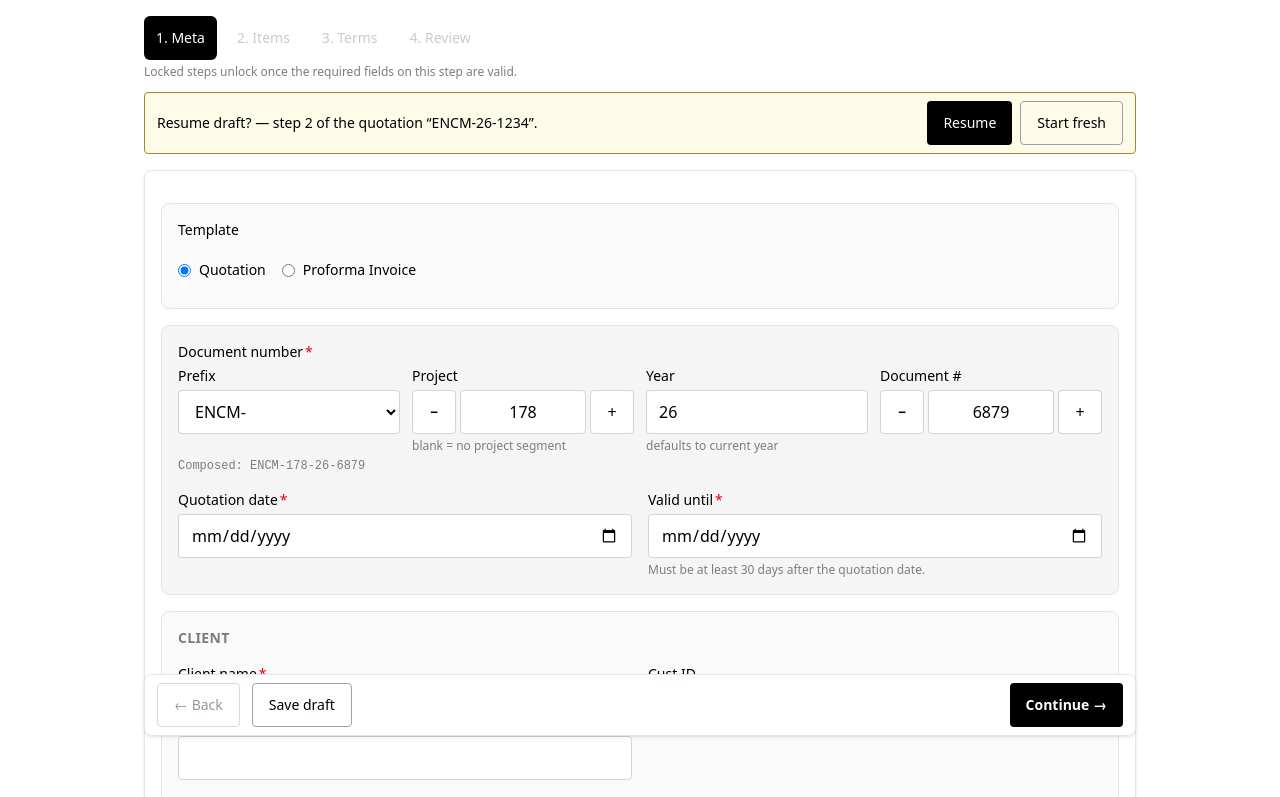
Test case: Wizard resume banner (AC-12 / EC-11) › offers Resume/Start fresh for a readable draft and dismisses on Resume
Expected: the text "Resume draft? — step 2 of the quotation “ENCM-26-1234”." is shown, [157,113,538,133]
Click the button "Resume".
click(970, 123)  # box [927,101,1012,145]
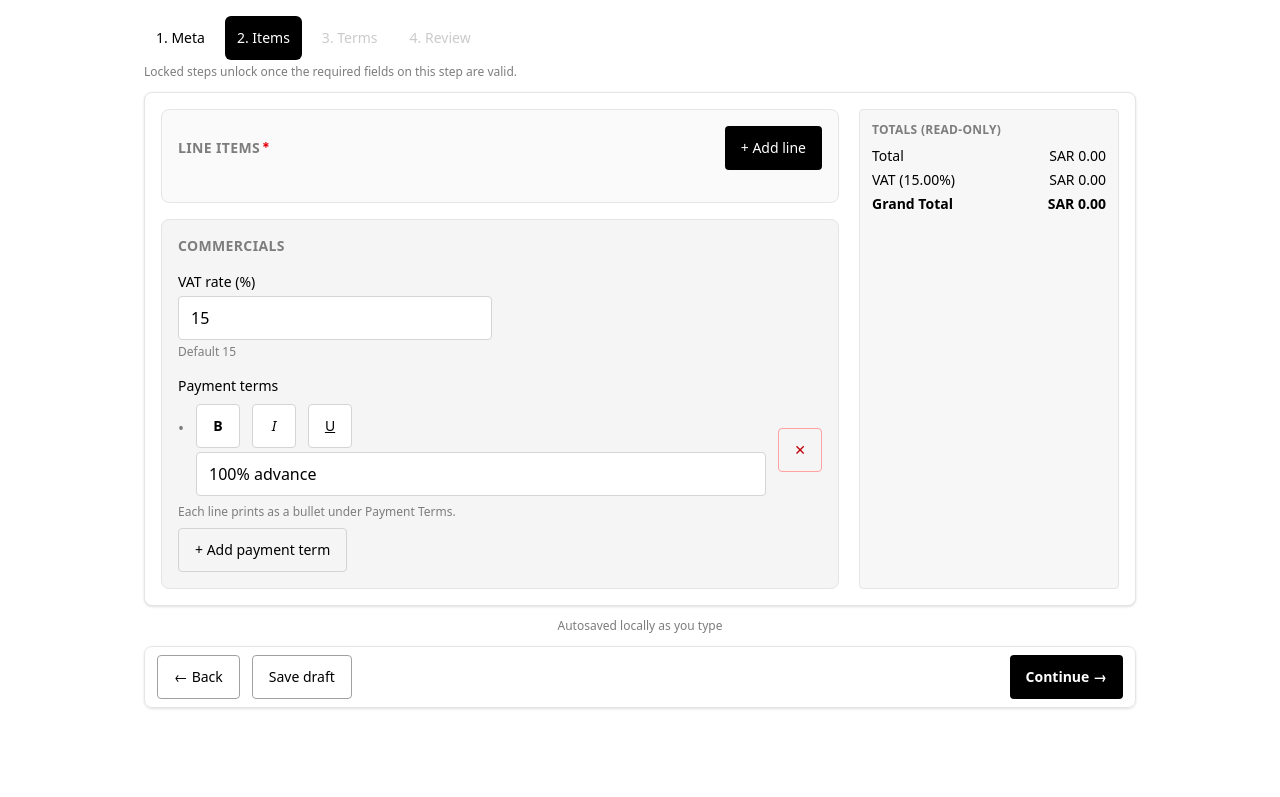
Result: the text "Resume draft?" is gone
